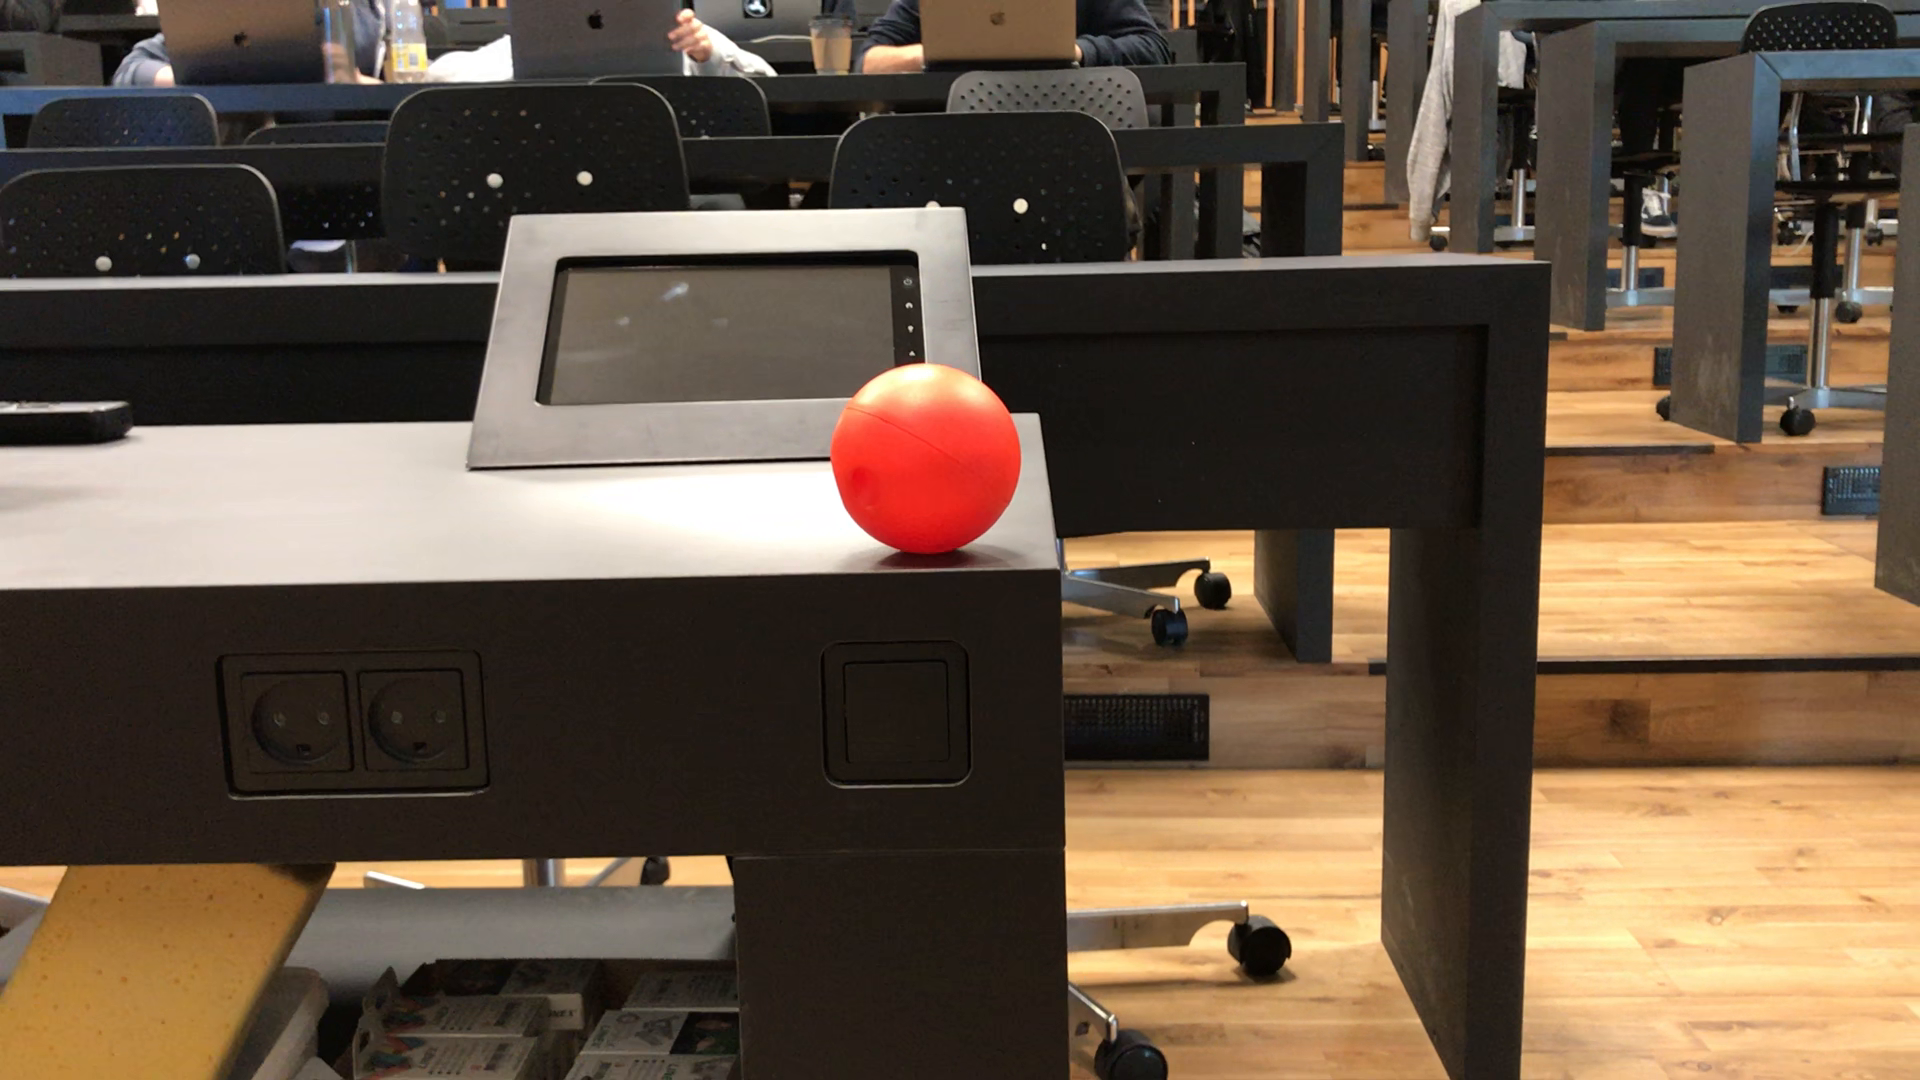Ball: (837, 365, 1027, 546)
